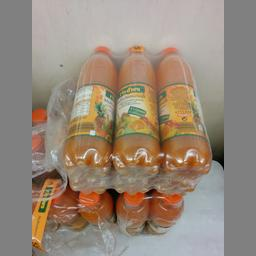juice: (156, 44, 210, 172), (68, 42, 114, 168), (114, 42, 158, 172)
